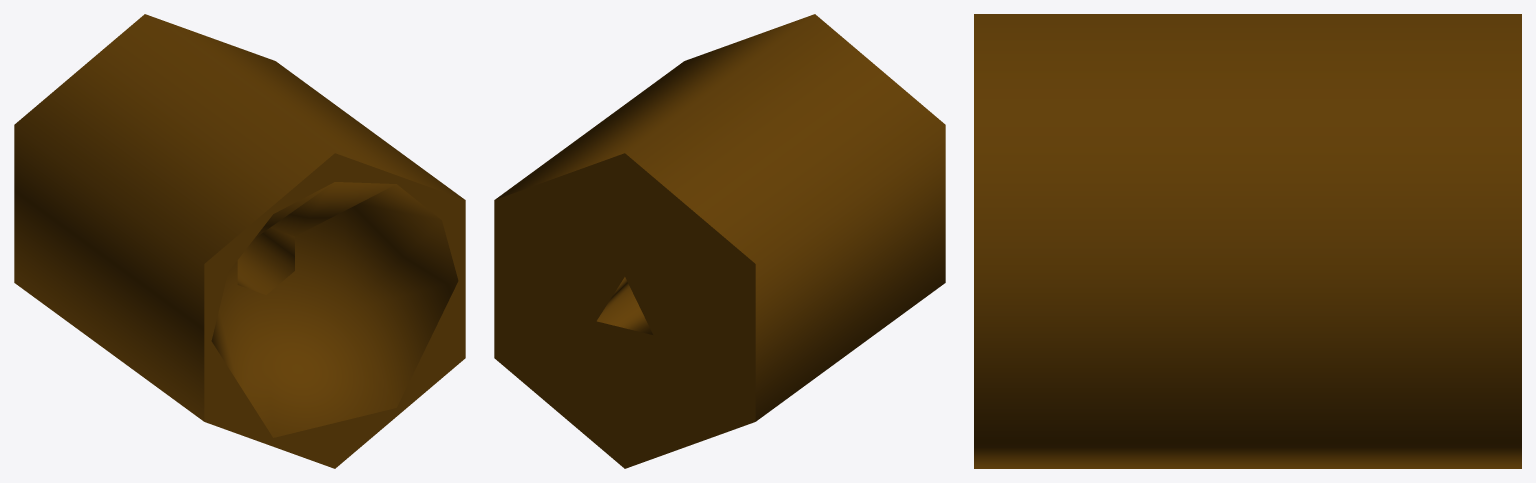
File: Pallier axe roue (5.5_1).obj
3 renders of one model, left to right at view 1: azimuth 30°, elevation 25°; view 2: azimuth 150°, elevation 25°; view 3: azimuth 270°, elevation 25°, orthographic. The views are drawn at different scales.
Parts seen in each view (by area): view 1: Face_4, Face_2, Face_3, Face_5; view 2: Face_4, Face_1, Face_5; view 3: Face_4.
Part boxes in pixels (box(x1,y1,x2,y2)): Face_4: box(14, 14, 464, 421); Face_2: box(211, 182, 458, 437); Face_3: box(204, 153, 465, 468); Face_5: box(237, 227, 294, 294); Face_4: box(495, 14, 945, 421); Face_1: box(494, 153, 755, 468); Face_5: box(597, 277, 652, 334); Face_4: box(974, 14, 1521, 468).
Size of the model in its own units: 0.00476 by 0.0055 by 0.006.
